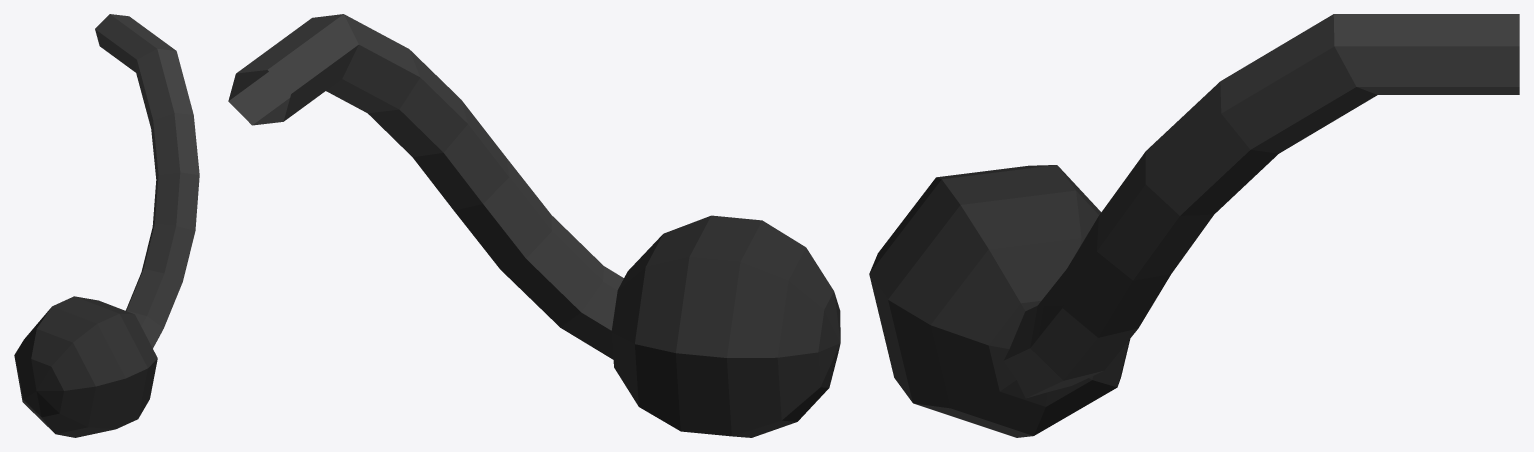
File: SniperRifle1_01_4.fbx
3 renders of one model, left to right at view 1: azimuth 30°, elevation 25°; view 2: azimuth 150°, elevation 25°; view 3: azimuth 270°, elevation 25°, orthographic. The views are drawn at different scales.
Parts seen in each view (by area): view 1: SniperRifle1_01_4; view 2: SniperRifle1_01_4; view 3: SniperRifle1_01_4.
Boxes of the visible parts, bbox=[...] form: SniperRifle1_01_4: bbox=[14, 14, 199, 437]; SniperRifle1_01_4: bbox=[228, 14, 840, 437]; SniperRifle1_01_4: bbox=[869, 14, 1519, 437].
Bounding box in the file's own units: 0.05 × 0.0566 × 0.0598.
